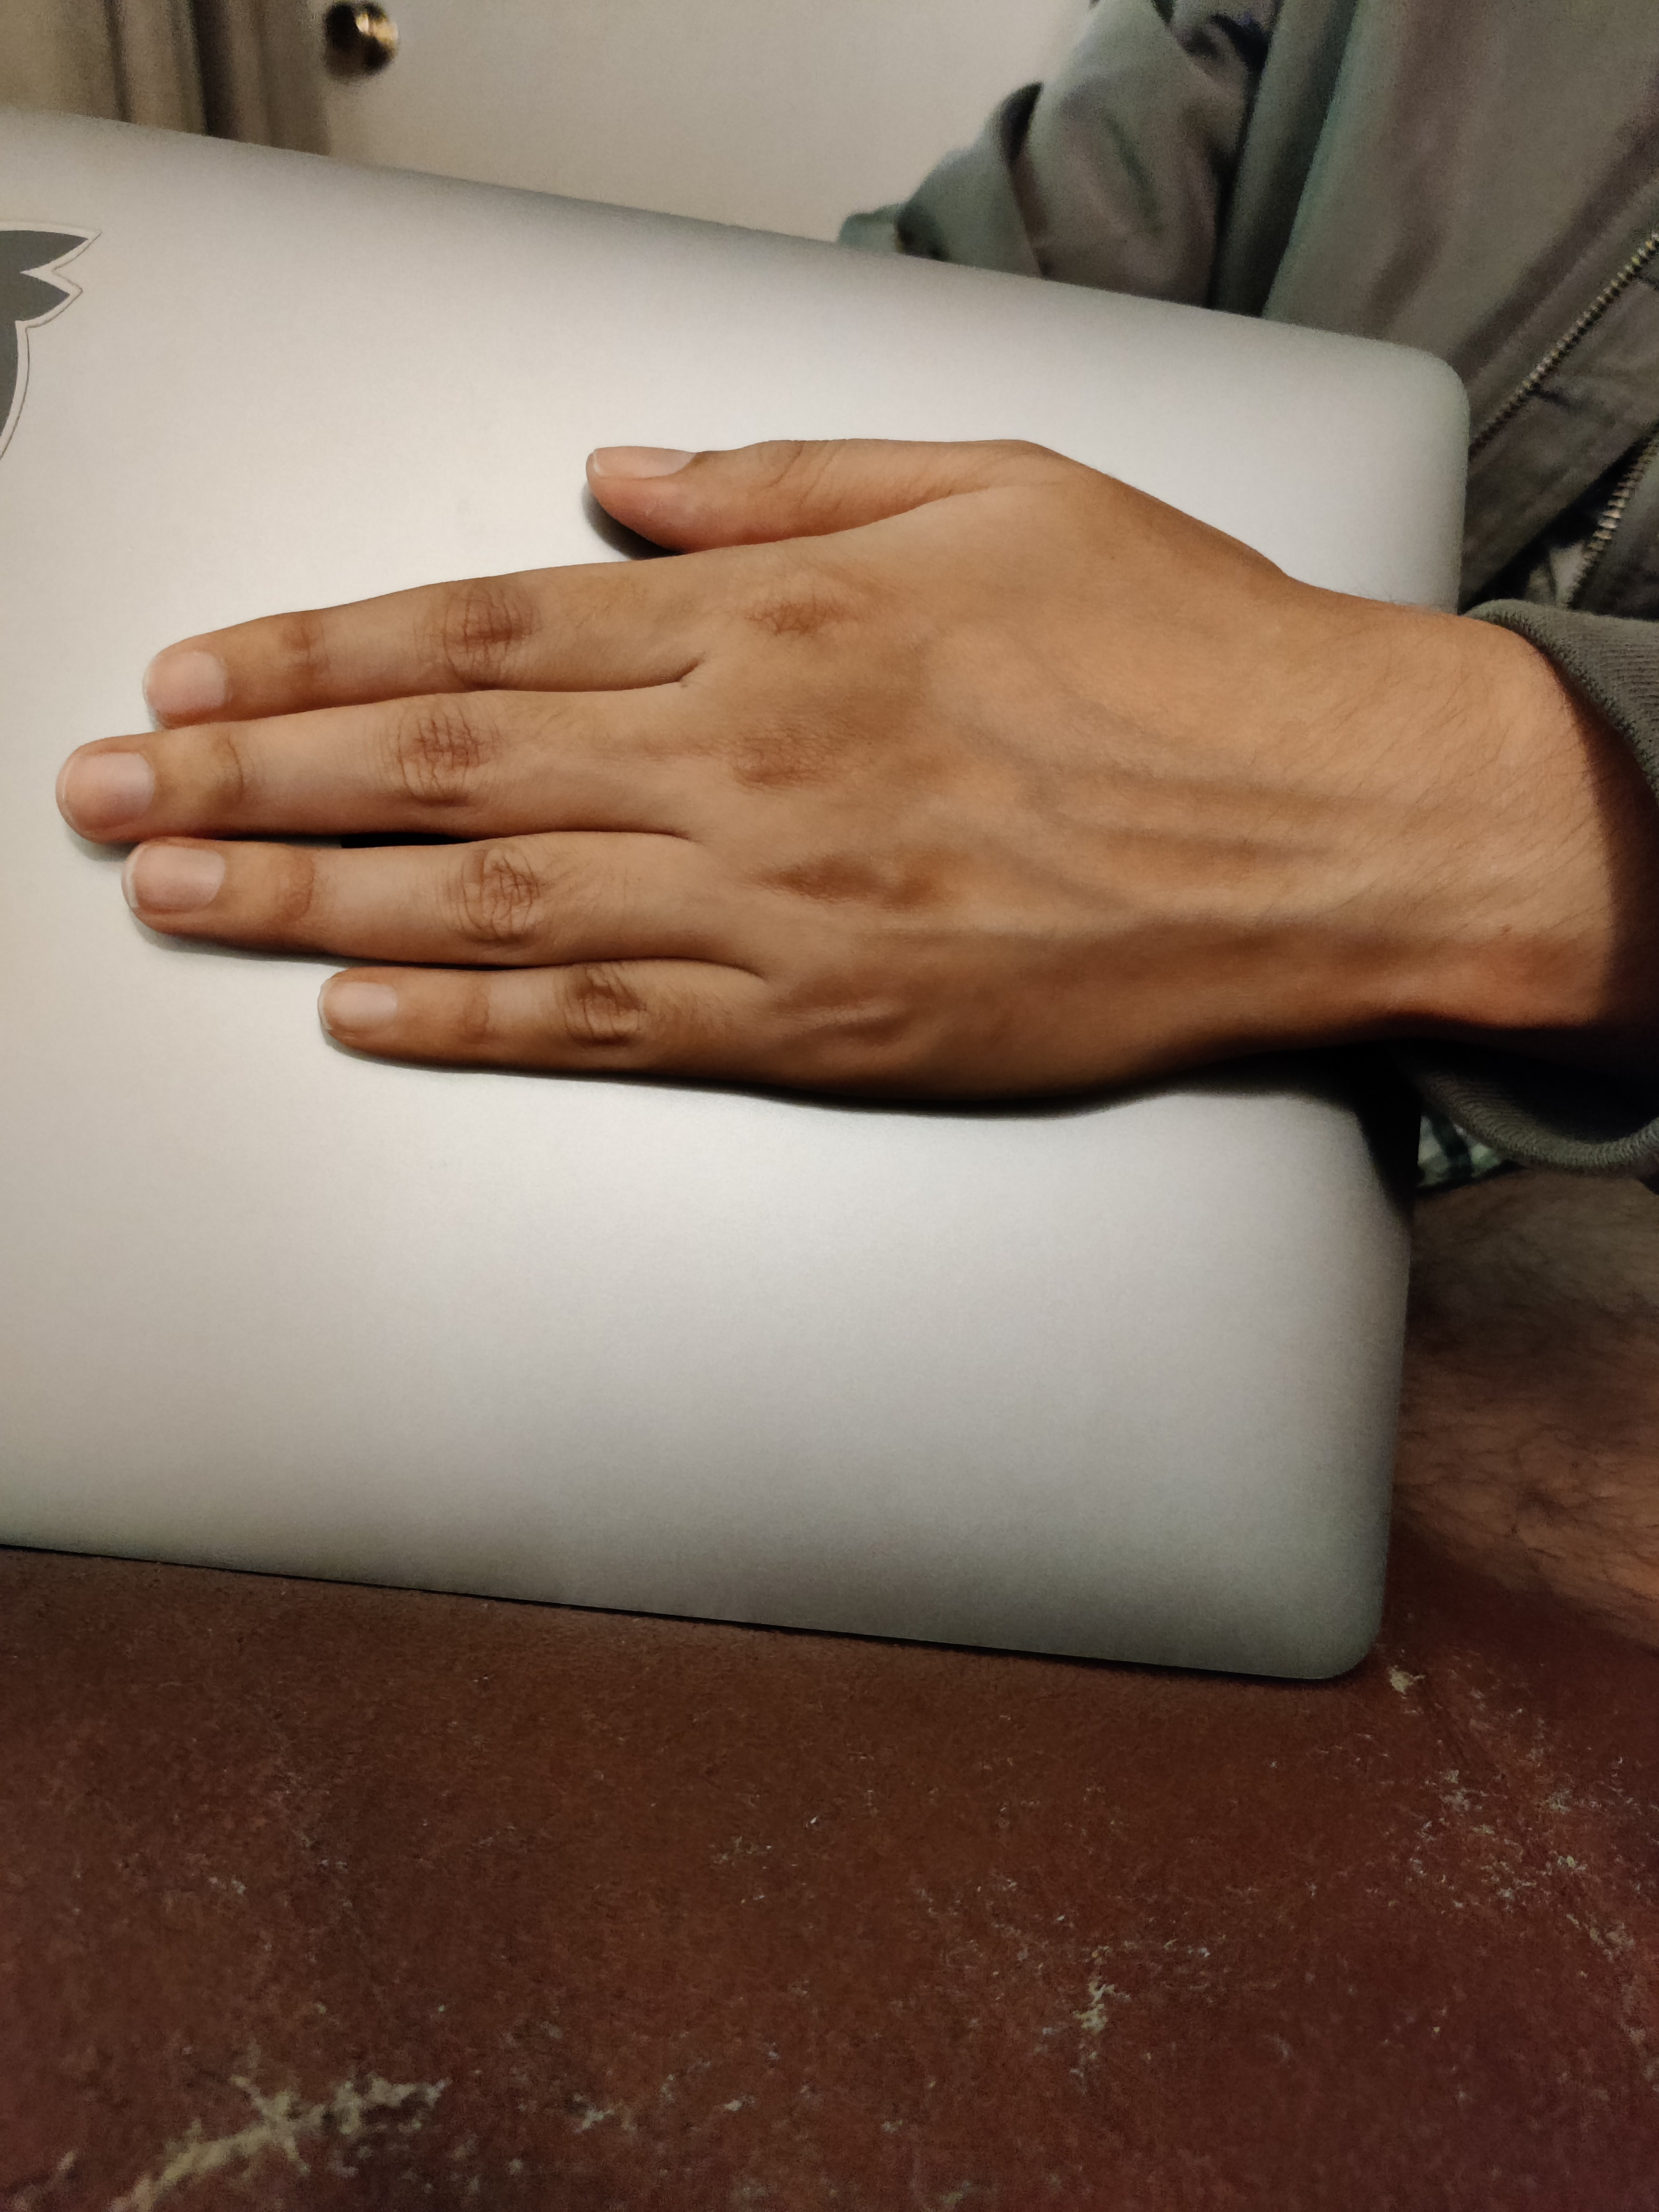right: (47, 359, 1607, 1360)
